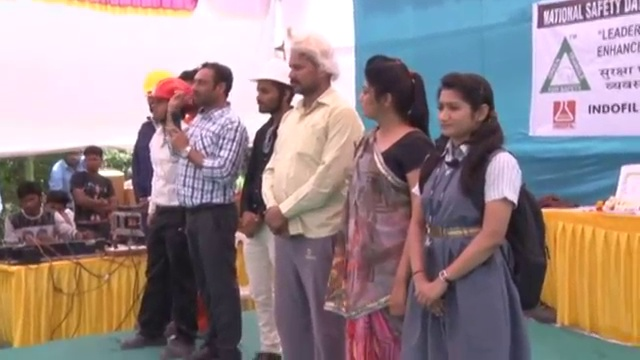helmet: (247, 53, 292, 90), (143, 71, 191, 101)
helmet_off: (430, 72, 500, 152), (356, 53, 422, 129), (285, 33, 344, 100), (181, 63, 235, 113), (16, 179, 43, 217), (44, 191, 70, 214), (80, 148, 99, 175), (61, 149, 80, 168)
helmet_on: (142, 74, 193, 131), (247, 61, 292, 120)
person: (414, 68, 553, 360), (262, 20, 370, 360), (339, 53, 435, 360), (169, 58, 253, 360), (121, 71, 194, 359), (237, 51, 292, 360), (2, 179, 83, 244), (69, 148, 113, 233), (47, 148, 81, 191)
